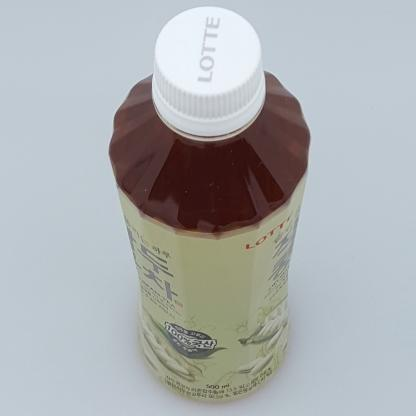--------------500ML: (107, 6, 312, 406)
